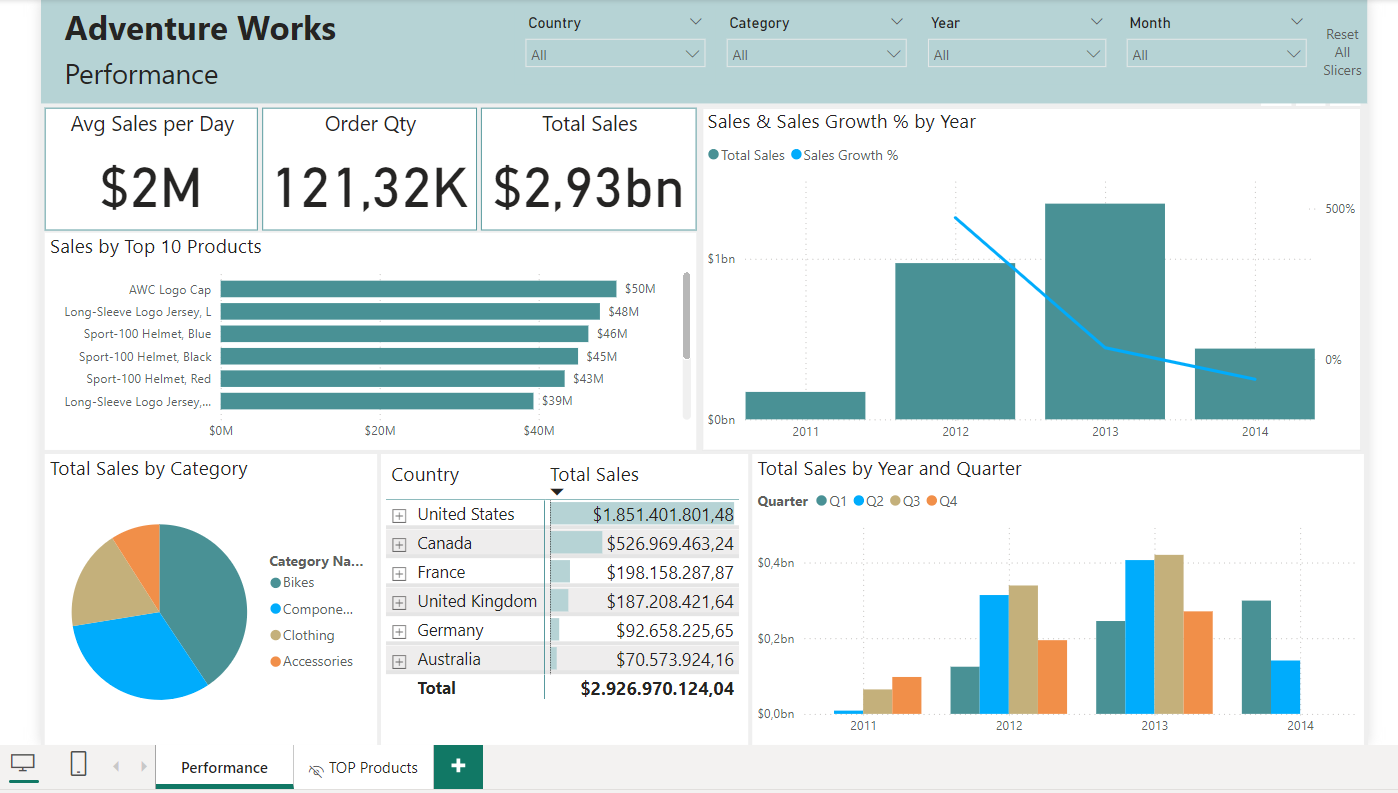

The dashboard page shown, as its layout file describes it:
{"tool":"powerbi","page":{"name":"Performance","canvas":[1280,720],"ordinal":0},"visuals":[{"type":"card","title":"Order Qty","fields":{"Values":["CountNonNull(FactSales.Order Qty)"]},"box":[213.4,104.8,207.1,118.5],"z":0},{"type":"pivotTable","fields":{"Rows":["DimCountry.Country Name","DimCountry.Region"],"Values":["FactSales.Total Sales"]},"box":[328.2,439.2,354.4,280.8],"z":1000},{"type":"pieChart","title":"Total Sales by Category","fields":{"Category":["DimProduct.Category Name"],"Y":["FactSales.Total Sales"]},"box":[3.7,439.2,320.7,280.8],"z":2000},{"type":"card","title":"Total Sales","fields":{"Values":["FactSales.Total Sales"]},"box":[424.3,104.8,208.4,118.5],"z":3000},{"type":"lineStackedColumnComboChart","title":"Sales & Sales Growth % by Year","fields":{"Category":["Date.Year"],"Y":["FactSales.Total Sales"],"Y2":["FactSales.Sales Growth %"]},"box":[637.6,104.8,636.4,330.7],"z":4000},{"type":"clusteredColumnChart","fields":{"Y":["FactSales.Total Sales"],"Series":["Date.Quarter"],"Category":["Date.Year"]},"box":[686.3,439.2,590.2,280.8],"z":5000},{"type":"card","title":"Avg Sales per Day","fields":{"Values":["FactSales.Avg Sales per Day"]},"box":[3.7,104.8,205.9,118.5],"z":6000},{"type":"textbox","box":[0,0,1280.3,101.1],"z":7000},{"type":"slicer","fields":{"Values":["DimCountry.Country"]},"box":[457.5,9.1,193.9,72.7],"z":8000},{"type":"slicer","fields":{"Values":["DimProduct.Category Name"]},"box":[651.4,9.1,193.9,72.7],"z":9000},{"type":"slicer","fields":{"Values":["Date.Year"]},"box":[845.3,9.1,192.4,72.7],"z":10000},{"type":"slicer","fields":{"Values":["Date.Month Name"]},"box":[1037.6,9.1,193.9,72.7],"z":11000},{"type":"barChart","title":"Sales by Top 10 Products","fields":{"Category":["DimProduct.Product Name"],"Y":["FactSales.Total Sales"]},"box":[3.7,225.9,628.9,209.6],"z":12000},{"type":"actionButton","title":"Reset ","box":[1231.5,0,48.5,101.5],"z":12001}]}

Visuals, with their boxes on the page's 1280x720 design canvas (x1, y1, x2, y2). These are canvas units, not pixel positions in the 1398x793 screenshot, which may show the page scaled, cropped or inside an application window:
"Order Qty" card: {"x1": 213, "y1": 105, "x2": 420, "y2": 223}
pivotTable - DimCountry.Country Name x DimCountry.Region: {"x1": 328, "y1": 439, "x2": 683, "y2": 720}
"Total Sales by Category" pieChart: {"x1": 4, "y1": 439, "x2": 324, "y2": 720}
"Total Sales" card: {"x1": 424, "y1": 105, "x2": 633, "y2": 223}
"Sales & Sales Growth % by Year" lineStackedColumnComboChart: {"x1": 638, "y1": 105, "x2": 1274, "y2": 436}
clusteredColumnChart - FactSales.Total Sales x Date.Quarter: {"x1": 686, "y1": 439, "x2": 1276, "y2": 720}
"Avg Sales per Day" card: {"x1": 4, "y1": 105, "x2": 210, "y2": 223}
textbox: {"x1": 0, "y1": 0, "x2": 1280, "y2": 101}
slicer - DimCountry.Country: {"x1": 458, "y1": 9, "x2": 651, "y2": 82}
slicer - DimProduct.Category Name: {"x1": 651, "y1": 9, "x2": 845, "y2": 82}
slicer - Date.Year: {"x1": 845, "y1": 9, "x2": 1038, "y2": 82}
slicer - Date.Month Name: {"x1": 1038, "y1": 9, "x2": 1232, "y2": 82}
"Sales by Top 10 Products" barChart: {"x1": 4, "y1": 226, "x2": 633, "y2": 436}
"Reset " actionButton: {"x1": 1232, "y1": 0, "x2": 1280, "y2": 102}
